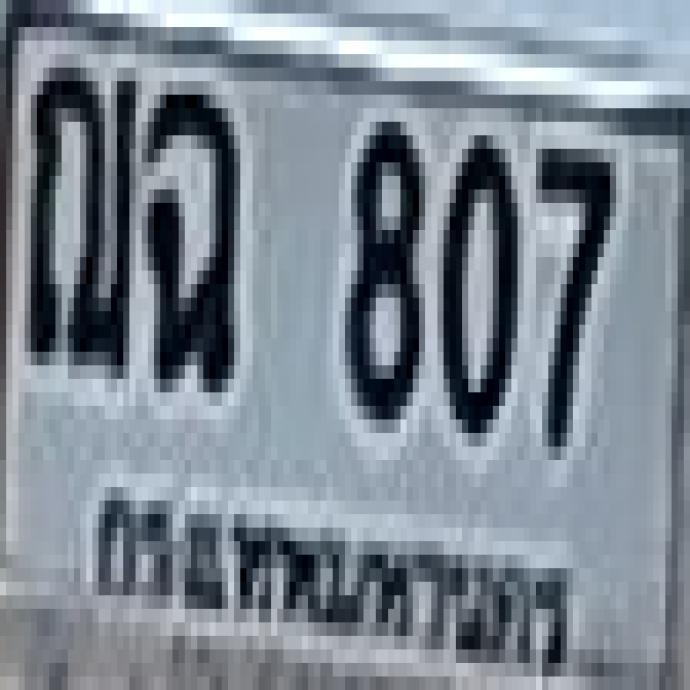0: (437, 122, 513, 424)
7: (533, 136, 609, 441)
8: (341, 109, 417, 412)
A09: (142, 79, 232, 380)
A12: (22, 53, 132, 358)
BKK: (82, 465, 583, 679)
